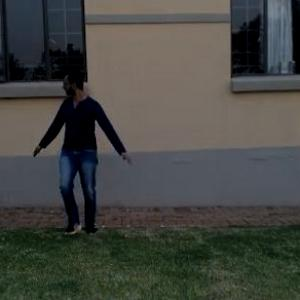land: (17, 64, 130, 246)
